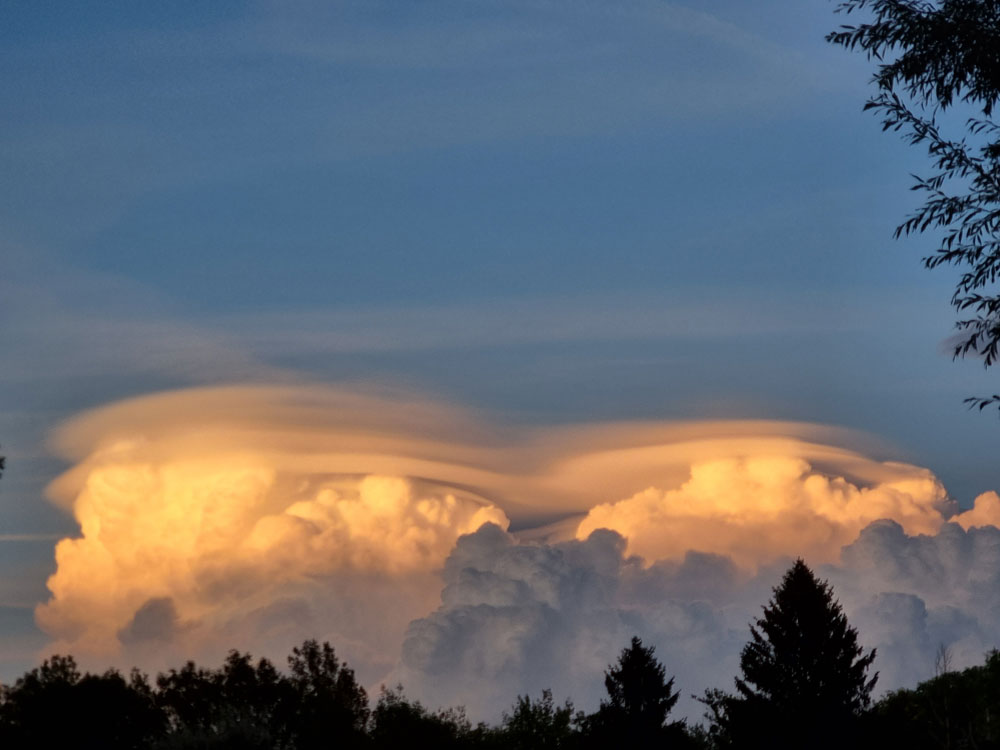Cumulus: (41, 348, 528, 653), (423, 500, 1000, 697), (574, 399, 953, 611)
